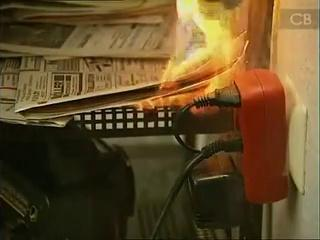Fire: (130, 0, 266, 111)
